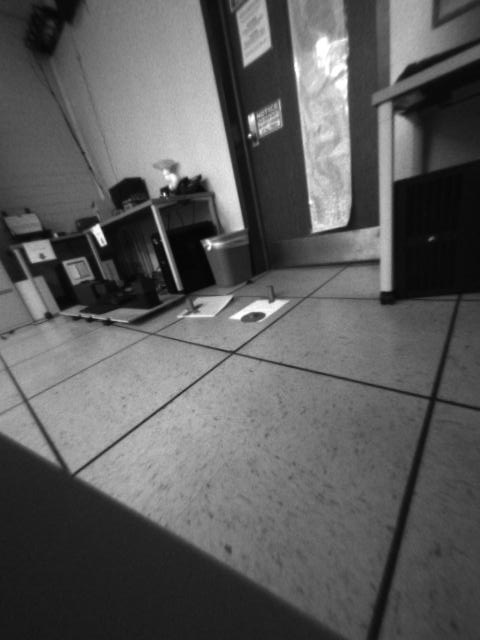X: (179, 296, 202, 316), (262, 286, 284, 303)
